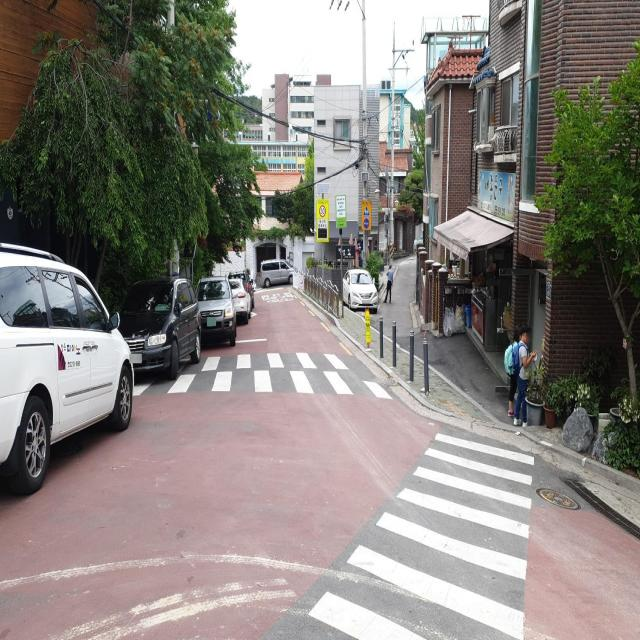횡단보도: (306, 429, 536, 640), (135, 356, 393, 402)
